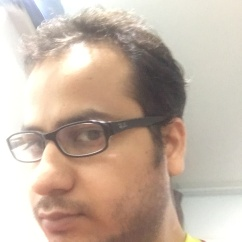glasses: (9, 128, 117, 158)
